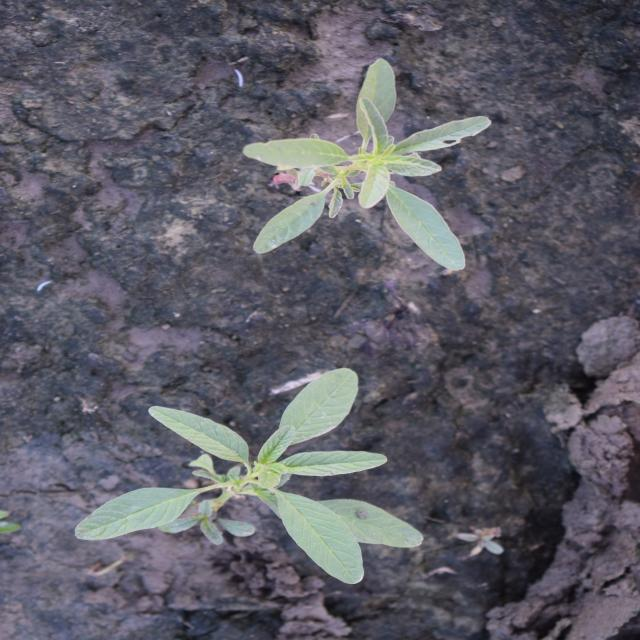Waterhemp: (71, 366, 428, 588), (238, 56, 491, 273)
